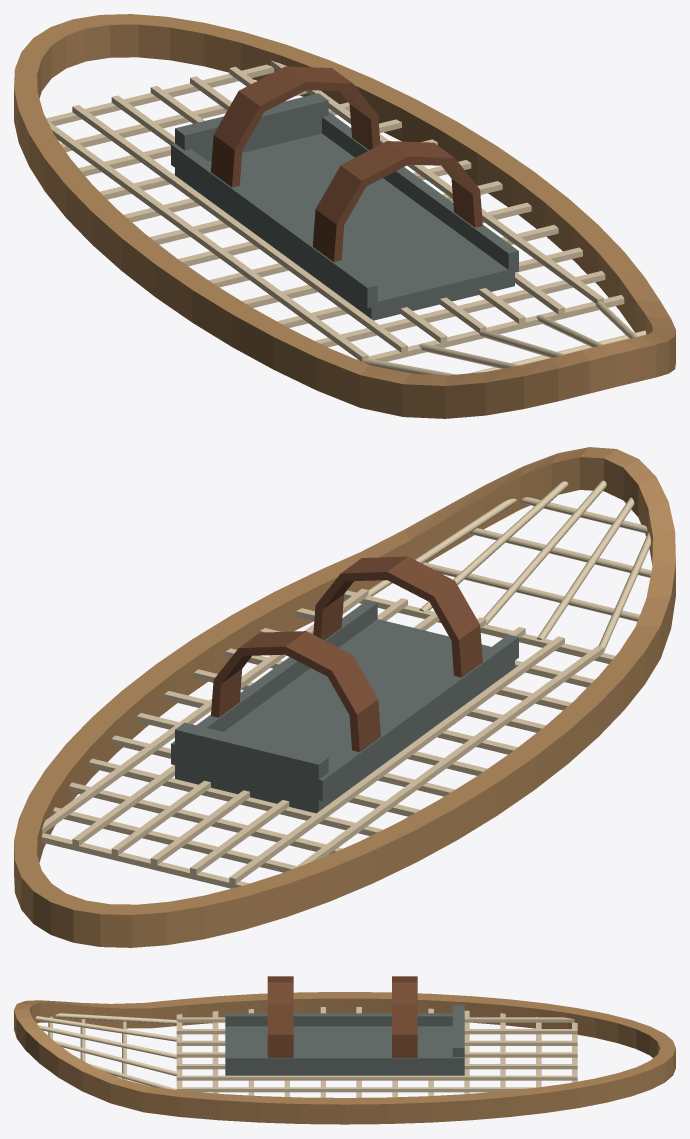
The picture shows the model from 3 angles, top to bottom: view 1: azimuth 30°, elevation 25°; view 2: azimuth 150°, elevation 25°; view 3: azimuth 270°, elevation 25°; orthographic projection. The views are drawn at different scales.
Visible parts, largest first — view 1: WholeClosedRaisedNoseOvalFrame, WholeShoeCradlePlate, WholeOpenFrontFootStrap, WholeOpenRearFootStrap, CradleSideRail_-1, WholeLongitudinalWeb_01, LowHeelStop, CradleSideRail_1, WholeLongitudinalWeb_00, WholeLongitudinalWeb_06, WholeCrossWeb_01, WholeCrossWeb_00 (+17 smaller); view 2: WholeClosedRaisedNoseOvalFrame, WholeShoeCradlePlate, WholeOpenRearFootStrap, WholeOpenFrontFootStrap, LowHeelStop, CradleSideRail_-1, WholeLongitudinalWeb_01, WholeLongitudinalWeb_00, CradleSideRail_1, WholeLongitudinalWeb_06, WholeCrossWeb_08, WholeCrossWeb_09 (+21 smaller); view 3: WholeClosedRaisedNoseOvalFrame, WholeShoeCradlePlate, CradleSideRail_1, CradleSideRail_-1, WholeLongitudinalWeb_05, WholeOpenFrontFootStrap, WholeOpenRearFootStrap, WholeLongitudinalWeb_06, WholeLongitudinalWeb_03, WholeLongitudinalWeb_01, WholeLongitudinalWeb_02, WholeLongitudinalWeb_04 (+12 smaller).
Part boxes in pixels (x1,y1,x2,y2): WholeClosedRaisedNoseOvalFrame: (14,14,675,418); WholeShoeCradlePlate: (175,133,514,320); WholeOpenFrontFootStrap: (312,141,482,261); WholeOpenRearFootStrap: (211,66,380,187); CradleSideRail_-1: (171,143,377,308); WholeLongitudinalWeb_01: (72,105,407,352); LowHeelStop: (175,93,328,161); CradleSideRail_1: (322,112,518,272); WholeLongitudinalWeb_00: (47,120,368,361); WholeLongitudinalWeb_06: (271,60,603,303); WholeCrossWeb_01: (315,271,605,347); WholeCrossWeb_00: (356,295,624,361); WholeClosedRaisedNoseOvalFrame: (14,447,675,947); WholeShoeCradlePlate: (175,619,514,813); WholeOpenRearFootStrap: (211,631,380,752); WholeOpenFrontFootStrap: (313,556,482,677); LowHeelStop: (175,722,328,798); CradleSideRail_-1: (312,634,518,801); WholeLongitudinalWeb_01: (229,636,564,884); WholeLongitudinalWeb_00: (293,646,603,868); CradleSideRail_1: (171,600,377,766); WholeLongitudinalWeb_06: (42,588,368,834); WholeCrossWeb_08: (89,758,382,835); WholeCrossWeb_09: (69,782,342,854); WholeClosedRaisedNoseOvalFrame: (14,992,675,1124); WholeShoeCradlePlate: (225,1026,464,1075); CradleSideRail_1: (225,1055,464,1070); CradleSideRail_-1: (225,1013,452,1026); WholeLongitudinalWeb_05: (176,1075,577,1080); WholeOpenFrontFootStrap: (267,976,293,1057); WholeOpenRearFootStrap: (392,976,417,1057); WholeLongitudinalWeb_06: (176,1087,537,1092); WholeLongitudinalWeb_03: (176,1052,577,1057); WholeLongitudinalWeb_01: (176,1029,577,1034); WholeLongitudinalWeb_02: (176,1040,577,1045); WholeLongitudinalWeb_04: (176,1064,577,1069).
Size of the model in its own units: 0.29 by 0.103 by 0.72.
